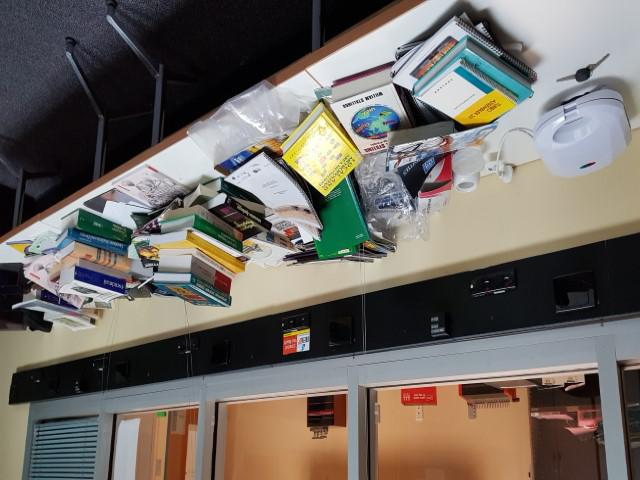key: (555, 66, 592, 87)
